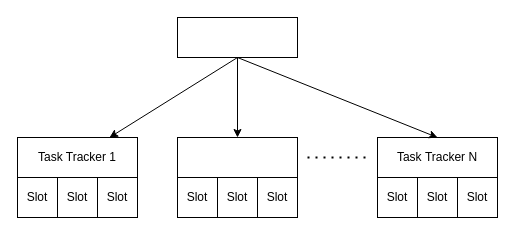
This 515x235 diagram has some shape labels left out. The shapes that lost their labels are listed below. From the top down, each one's centre as x and y in pixels, then its label:
At pixel 237 37: "Job Tracker".
At pixel 237 157: "Task Tracker 2".
